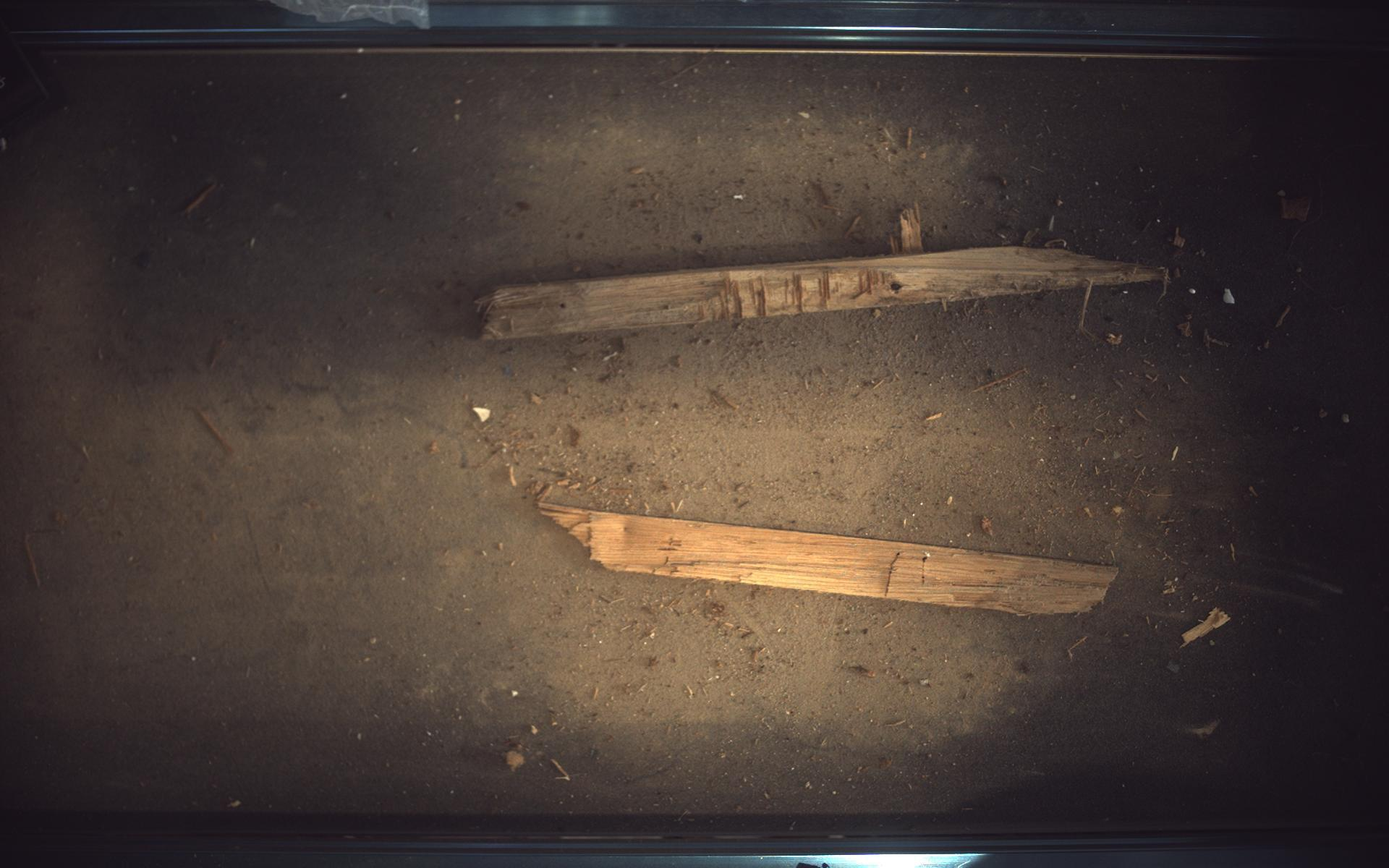wood: (478, 205, 1171, 339), (539, 503, 1120, 616)
